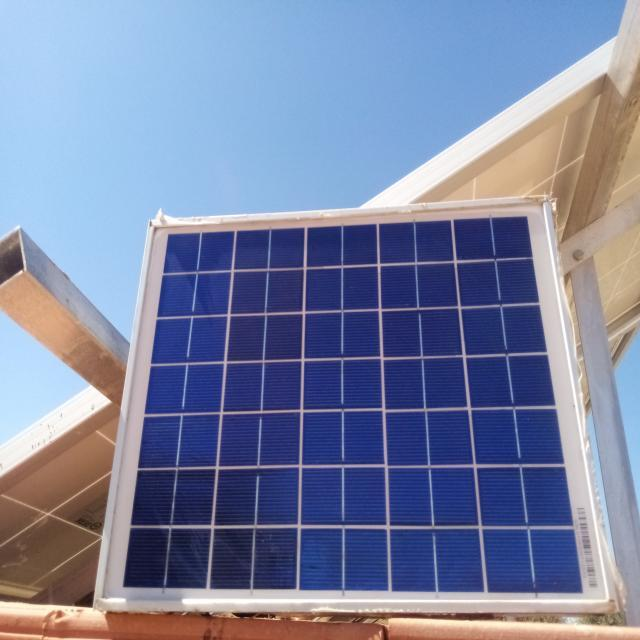no faulty: (96, 198, 612, 607)
